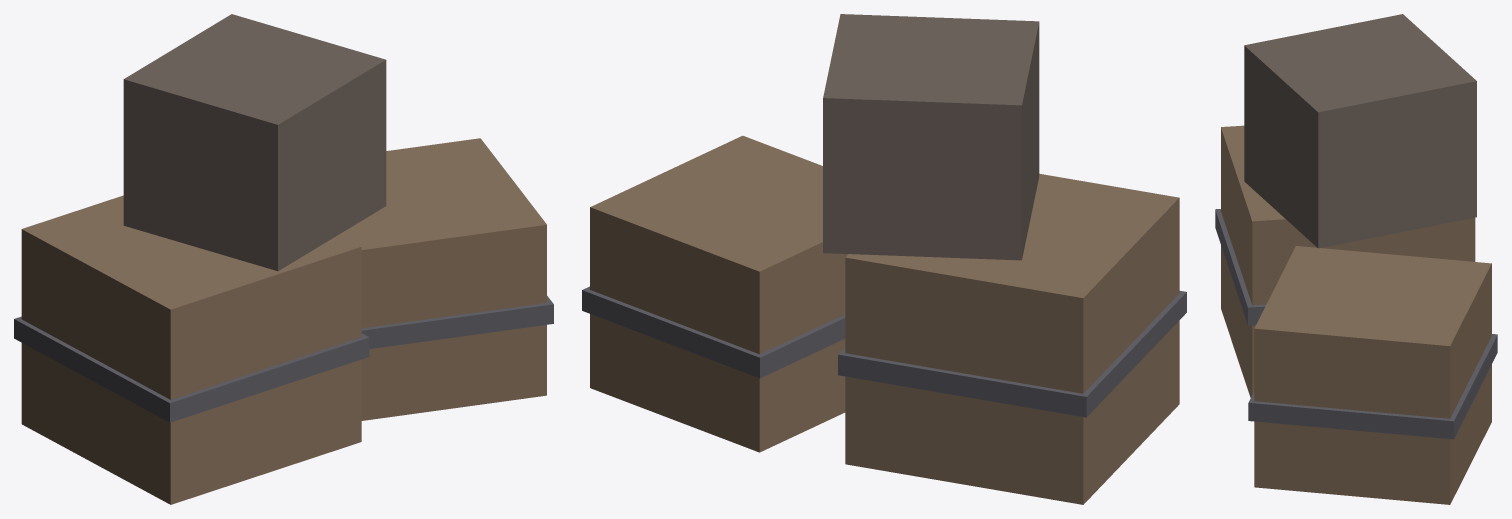
File: crate_stack.glb
The picture shows the model from 3 angles, left to right: view 1: azimuth 30°, elevation 25°; view 2: azimuth 150°, elevation 25°; view 3: azimuth 270°, elevation 25°; orthographic projection. The views are drawn at different scales.
Visible parts, largest first — view 1: crate_stack; view 2: crate_stack; view 3: crate_stack.
Boxes of the visible parts, <box> form: crate_stack: <box>14,14,553,504</box>; crate_stack: <box>582,14,1186,504</box>; crate_stack: <box>1215,14,1497,504</box>.
Bounding box in the file's own units: 2.03 × 1.4 × 1.13.
